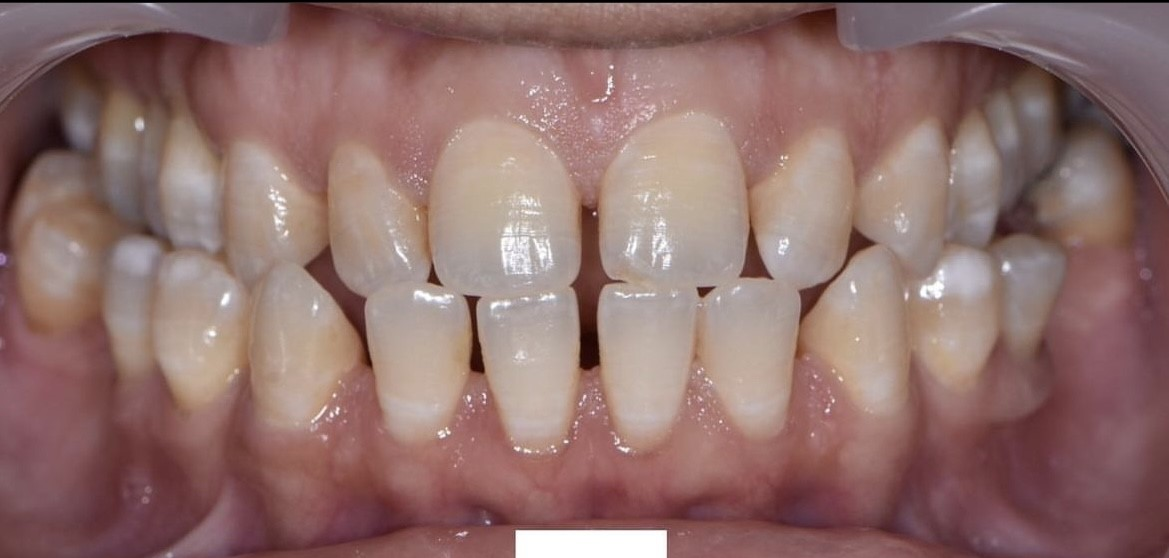LL1BC_mdecay: (911, 254, 992, 391)
LL2BC_mdecay: (997, 234, 1062, 358)
LLCI_healthy: (596, 293, 694, 444)
LLC_healthy: (812, 268, 909, 411)
LLLI_healthy: (703, 282, 798, 437)
LR1BC_mdecay: (152, 260, 247, 402)
LR1M_mdecay: (18, 202, 98, 343)
LR2BC_mdecay: (103, 241, 153, 379)
LRCI_healthy: (476, 298, 579, 453)
LRC_healthy: (246, 271, 356, 428)
LRLI_healthy: (361, 295, 470, 437)
UL1BC_mdecay: (950, 116, 1000, 243)
UL1M_mdecay: (1017, 66, 1059, 172)
UL2BC_mdecay: (990, 94, 1021, 209)
ULCI_healthy: (600, 121, 746, 286)
ULC_mdecay: (858, 122, 947, 271)
ULLI_healthy: (753, 127, 850, 282)
UR1BC_mdecay: (163, 117, 214, 246)
UR1M_mdecay: (100, 90, 137, 220)
UR2BC_mdecay: (140, 111, 159, 230)
URCI_healthy: (429, 127, 580, 294)
URC_mdecay: (222, 142, 325, 274)
URLI_mdecay: (328, 149, 428, 293)
